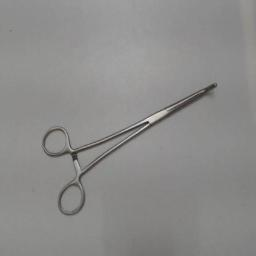Lahey Forceps: (38, 76, 222, 220)
